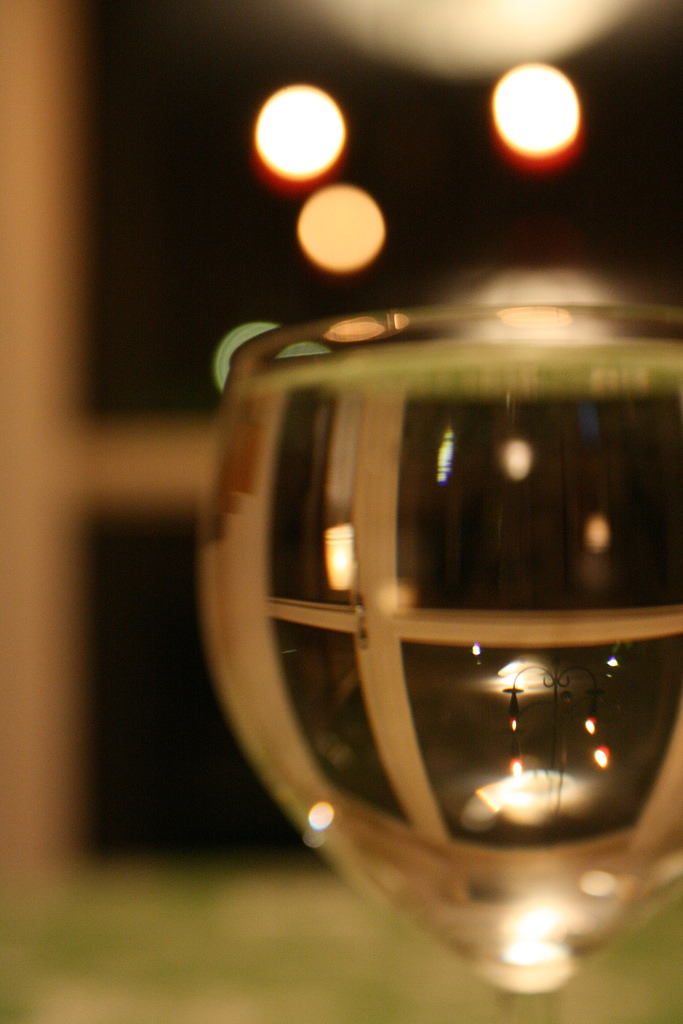glass of water: (206, 288, 683, 1023)
